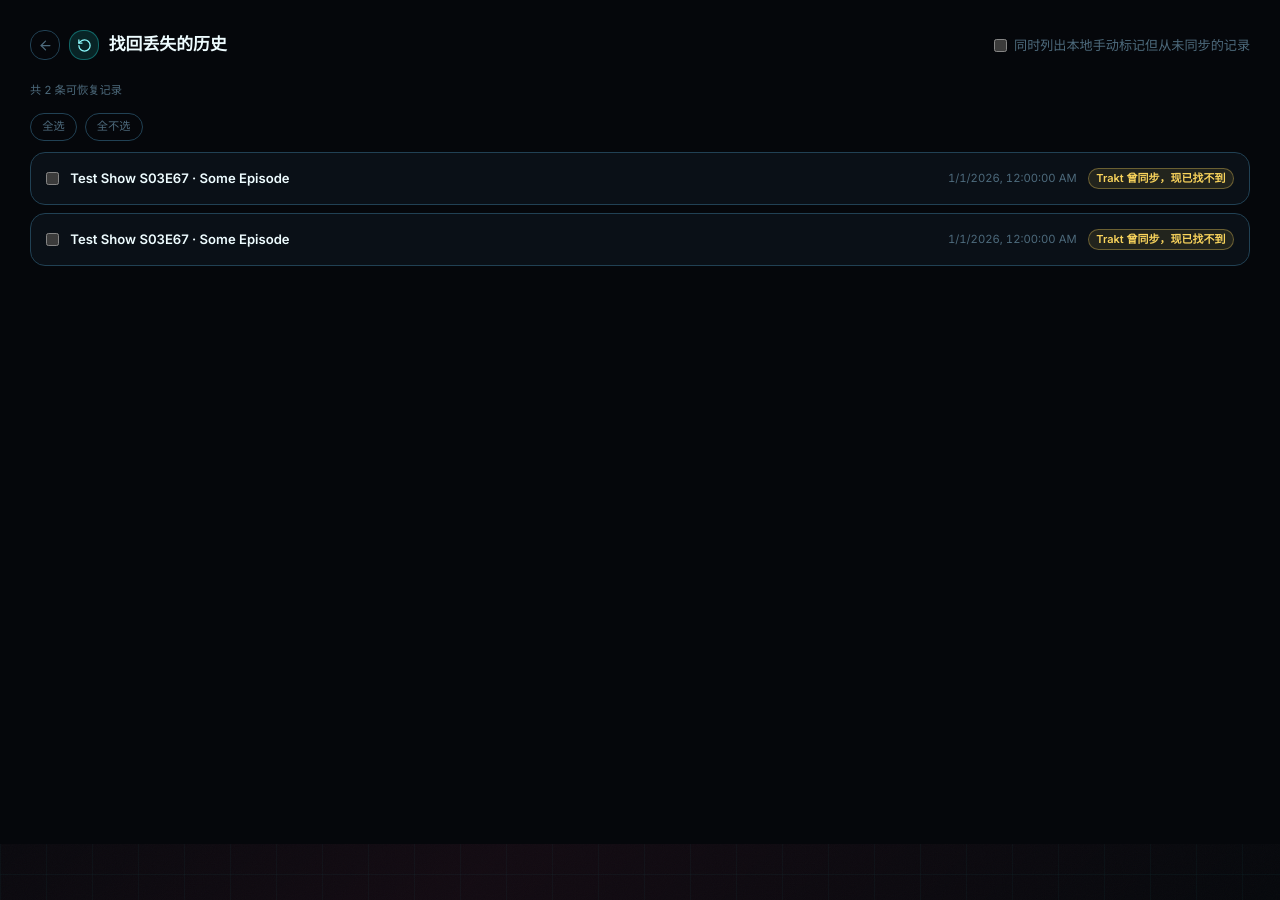
Scenario: HistoryRestorePage › select-all and deselect-all toggle every entry checkbox
This screenshot has width=1280, height=900.
Click the button "全选". click: [54, 127]
box: x1=30 y1=112 x2=77 y2=141
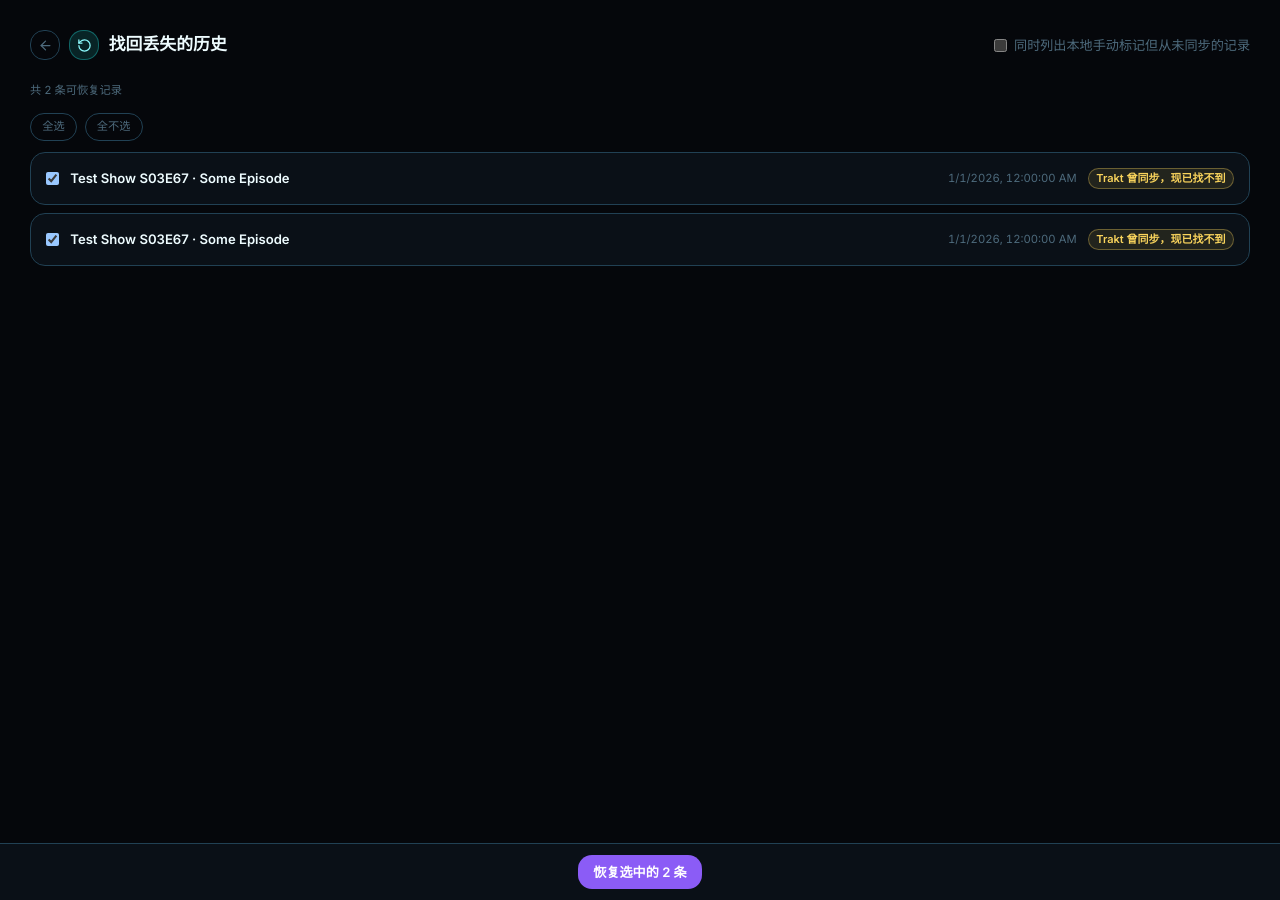
Check: the button "恢复选中的 2 条" is shown, box x1=578 y1=855 x2=702 y2=889
Click the button "全不选". click: [114, 127]
box: x1=84 y1=112 x2=143 y2=141
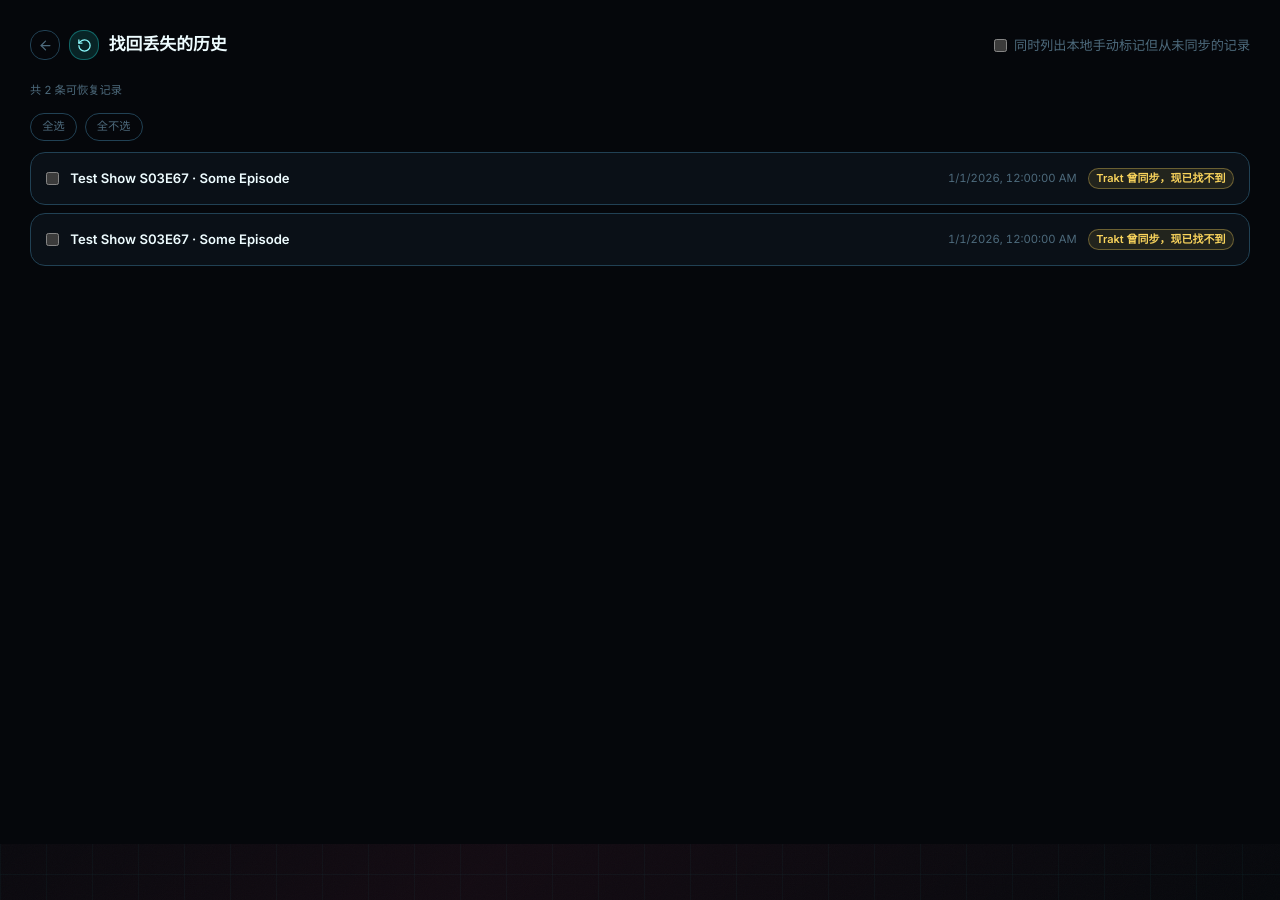
Check: the button "恢复选中的" is gone
